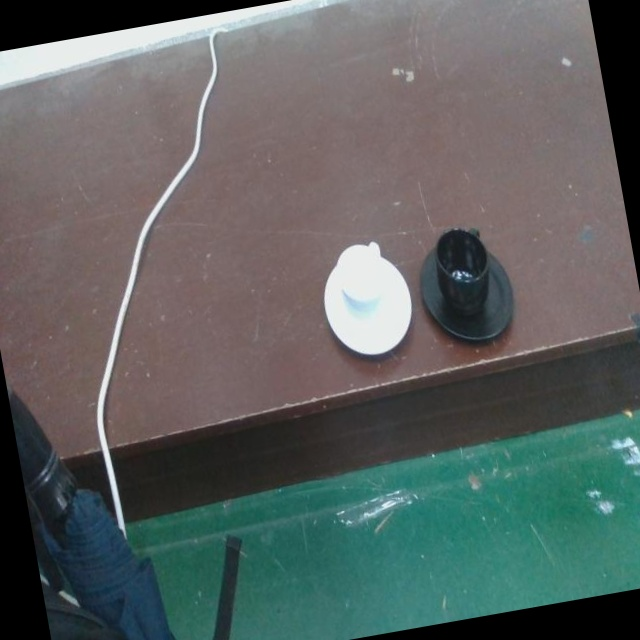black: (418, 224, 512, 349)
white: (321, 238, 412, 362)
